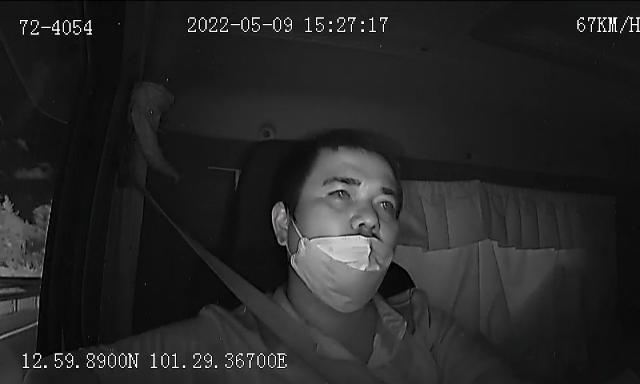SafeDriving: (322, 181, 358, 206), (371, 189, 401, 215)
Seatbelt: (157, 204, 383, 384)
